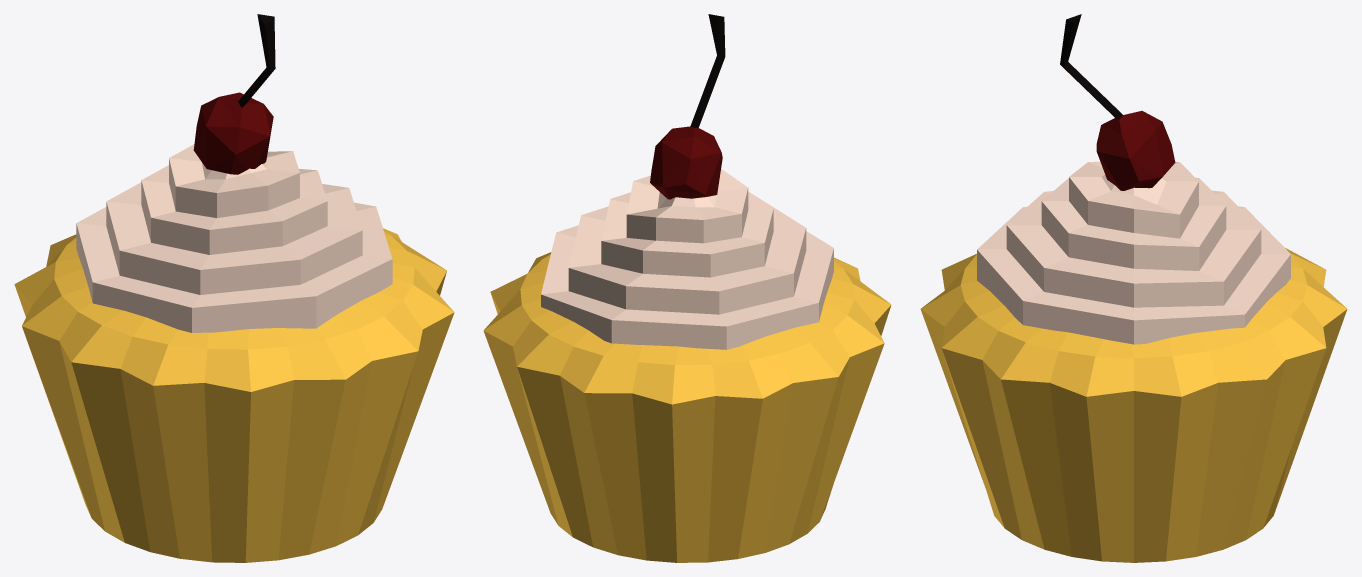
The model's file is Cupcake_Banana.FBX.
The picture shows the model from 3 angles, left to right: view 1: azimuth 30°, elevation 25°; view 2: azimuth 150°, elevation 25°; view 3: azimuth 270°, elevation 25°; orthographic projection. The views are drawn at different scales.
Visible parts, largest first — view 1: Cylinder001, Cylinder002, GeoSphere001; view 2: Cylinder001, Cylinder002, GeoSphere001; view 3: Cylinder001, Cylinder002, GeoSphere001.
Part boxes in pixels (x1=…): Cylinder001: x1=14, y1=228, x2=454, y2=562; Cylinder002: x1=76, y1=144, x2=392, y2=332; GeoSphere001: x1=193, y1=14, x2=275, y2=174; Cylinder001: x1=483, y1=252, x2=891, y2=562; Cylinder002: x1=541, y1=169, x2=833, y2=349; GeoSphere001: x1=650, y1=14, x2=725, y2=199; Cylinder001: x1=920, y1=248, x2=1347, y2=562; Cylinder002: x1=977, y1=161, x2=1290, y2=344; GeoSphere001: x1=1060, y1=14, x2=1175, y2=190.
Bounding box in the file's own units: 77.99 × 80 × 101.
